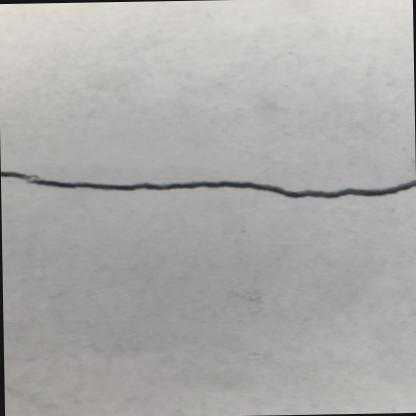crack: (0, 168, 414, 200)
